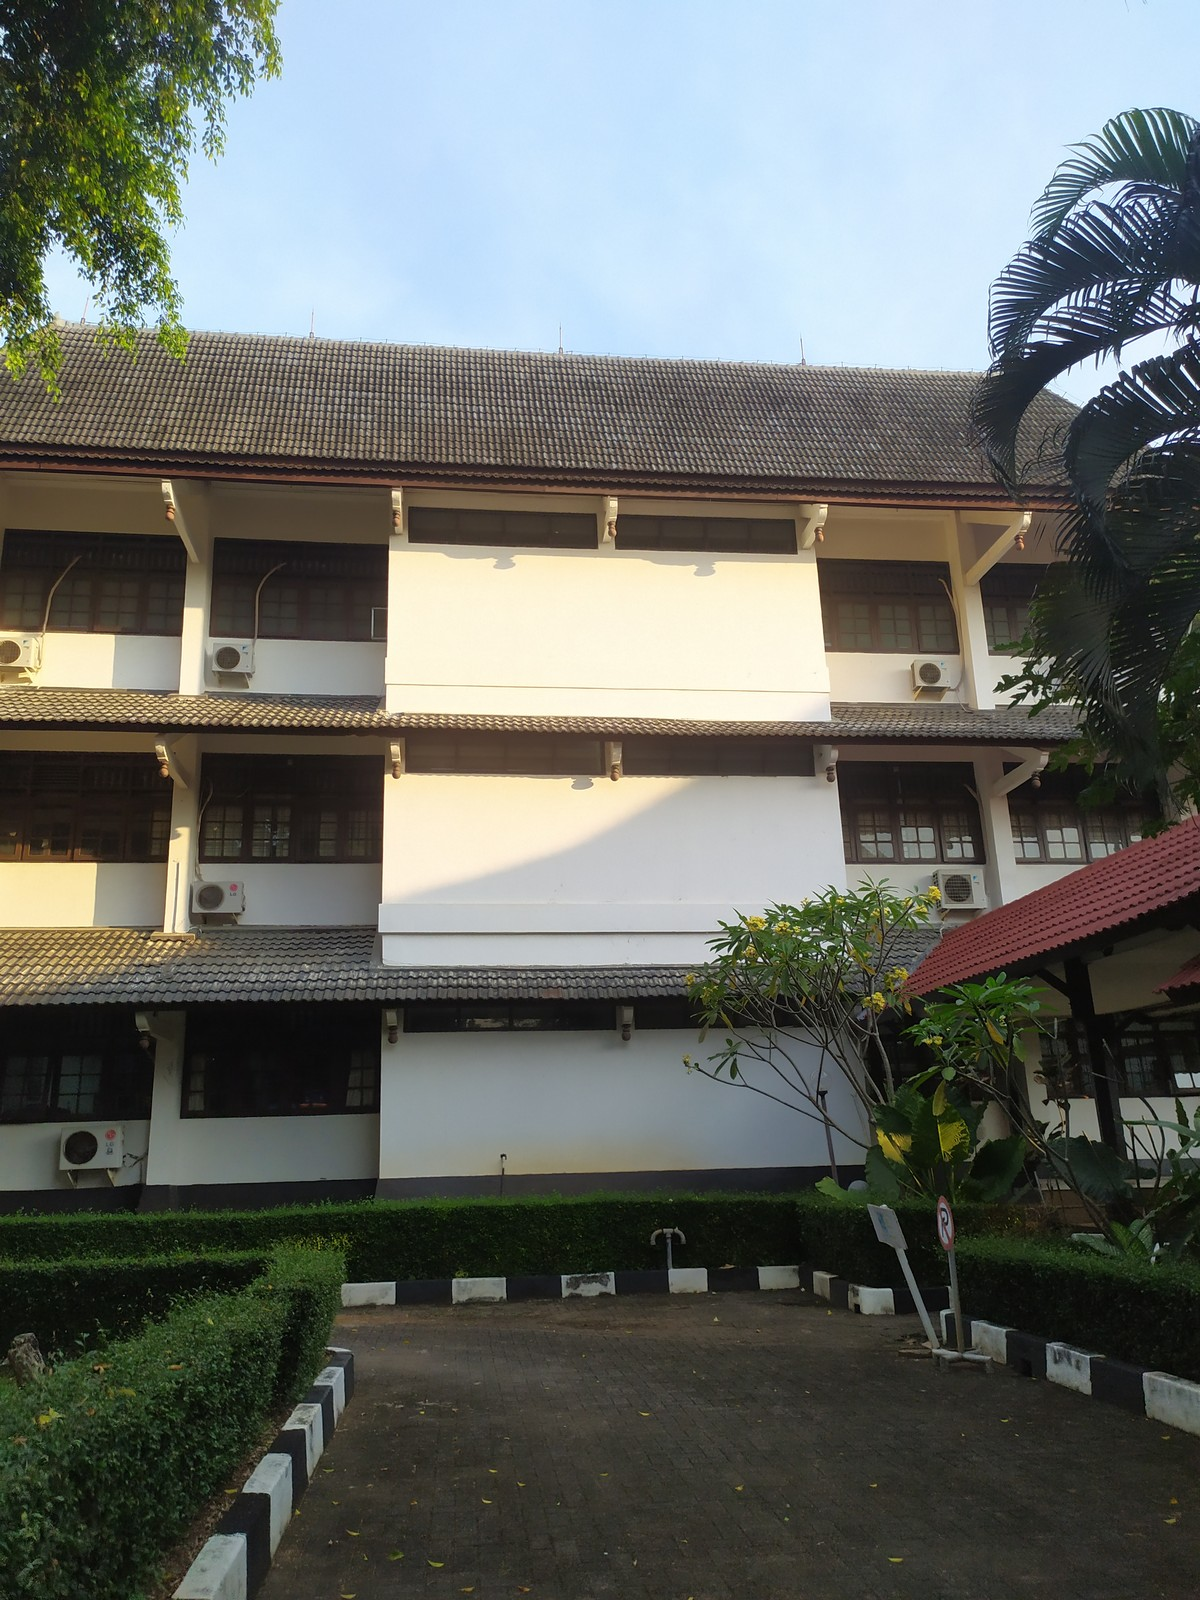concrete column: (944, 523, 1000, 712), (161, 736, 208, 939), (971, 752, 1026, 903), (176, 495, 216, 703), (142, 1014, 185, 1186)
